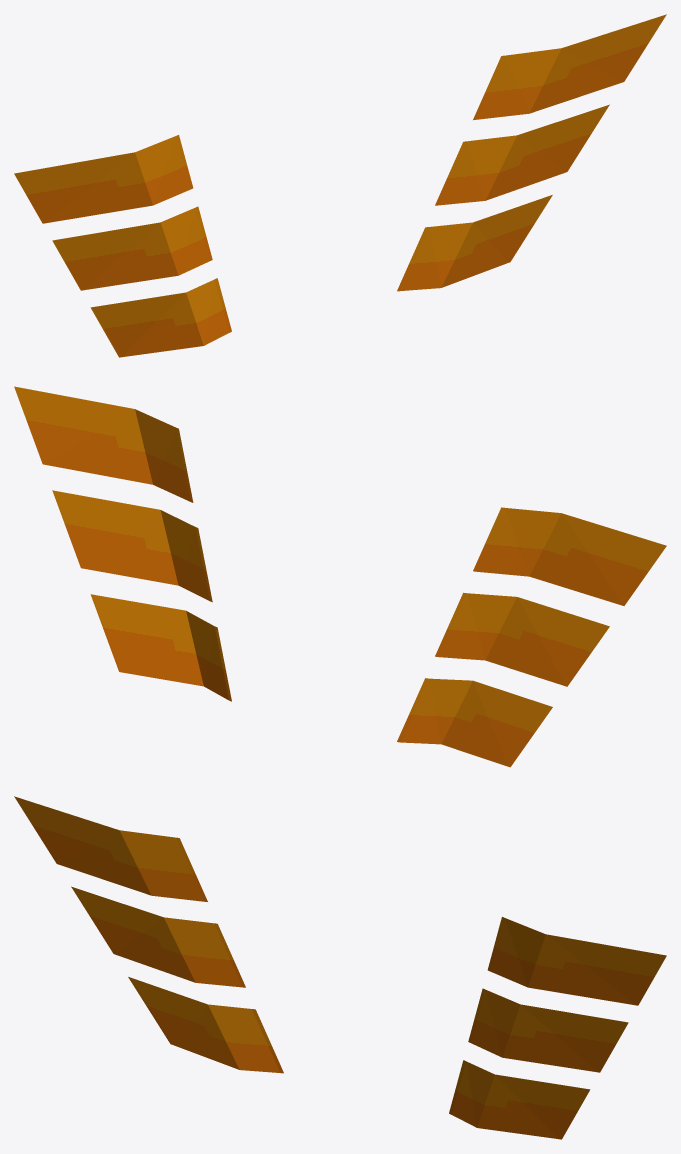
The model's file is MilkywayChevronLowerLightFront.obj.
3 renders of one model, top to bottom at view 1: azimuth 30°, elevation 25°; view 2: azimuth 150°, elevation 25°; view 3: azimuth 330°, elevation 25°, orthographic.
Parts seen in each view (by area): view 1: LowerChevronLightsFront; view 2: LowerChevronLightsFront; view 3: LowerChevronLightsFront.
Boxes of the visible parts, x1,y1,x2,y2 form: LowerChevronLightsFront: (14,14,666,357); LowerChevronLightsFront: (14,386,666,767); LowerChevronLightsFront: (14,796,666,1139).
Bounding box in the file's own units: 0.6434 × 0.223 × 0.0577.
Materials: 1 (1 with a texture image).
